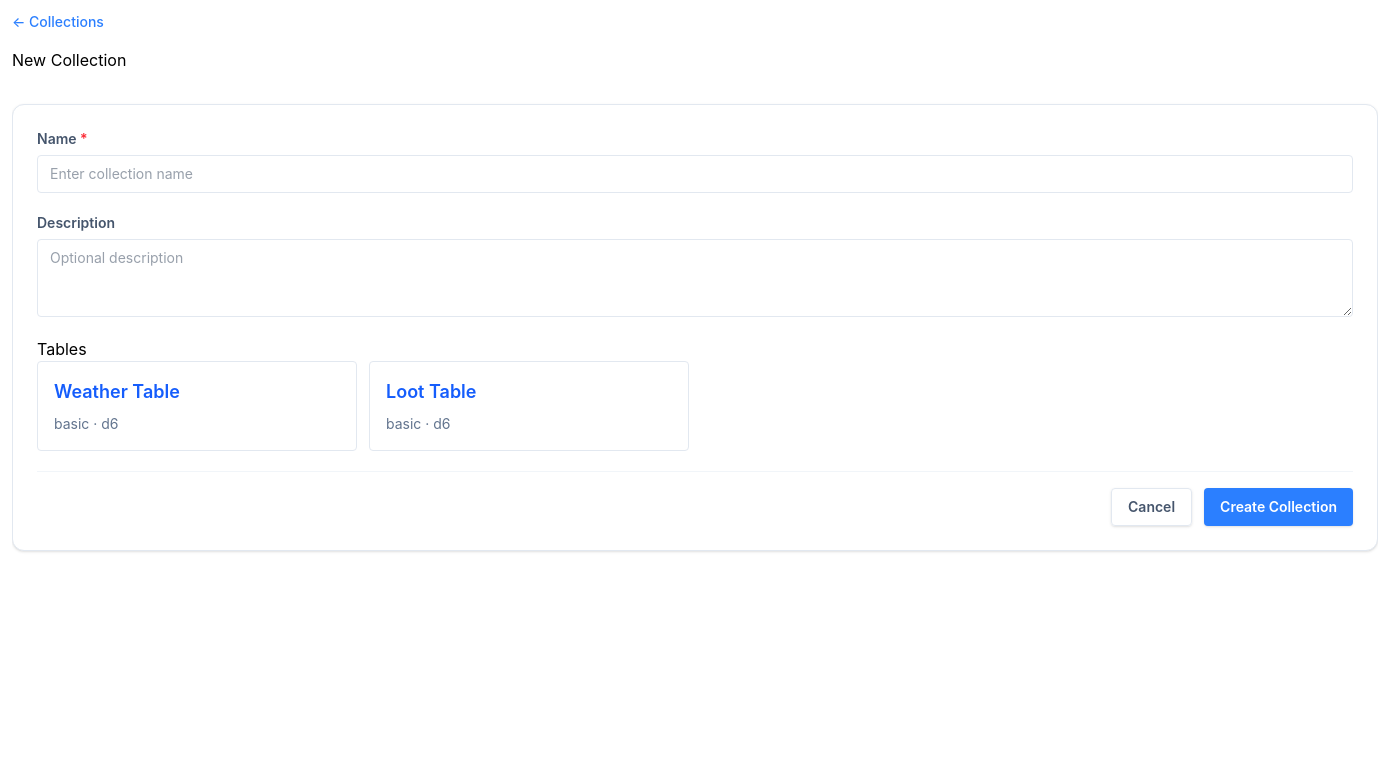
Test: CollectionCreate › shows validation error when name is empty
The width and height of the screenshot is (1378, 780).
Click the button "Create Collection": coordinates (1279, 507) [1204,488,1353,526]
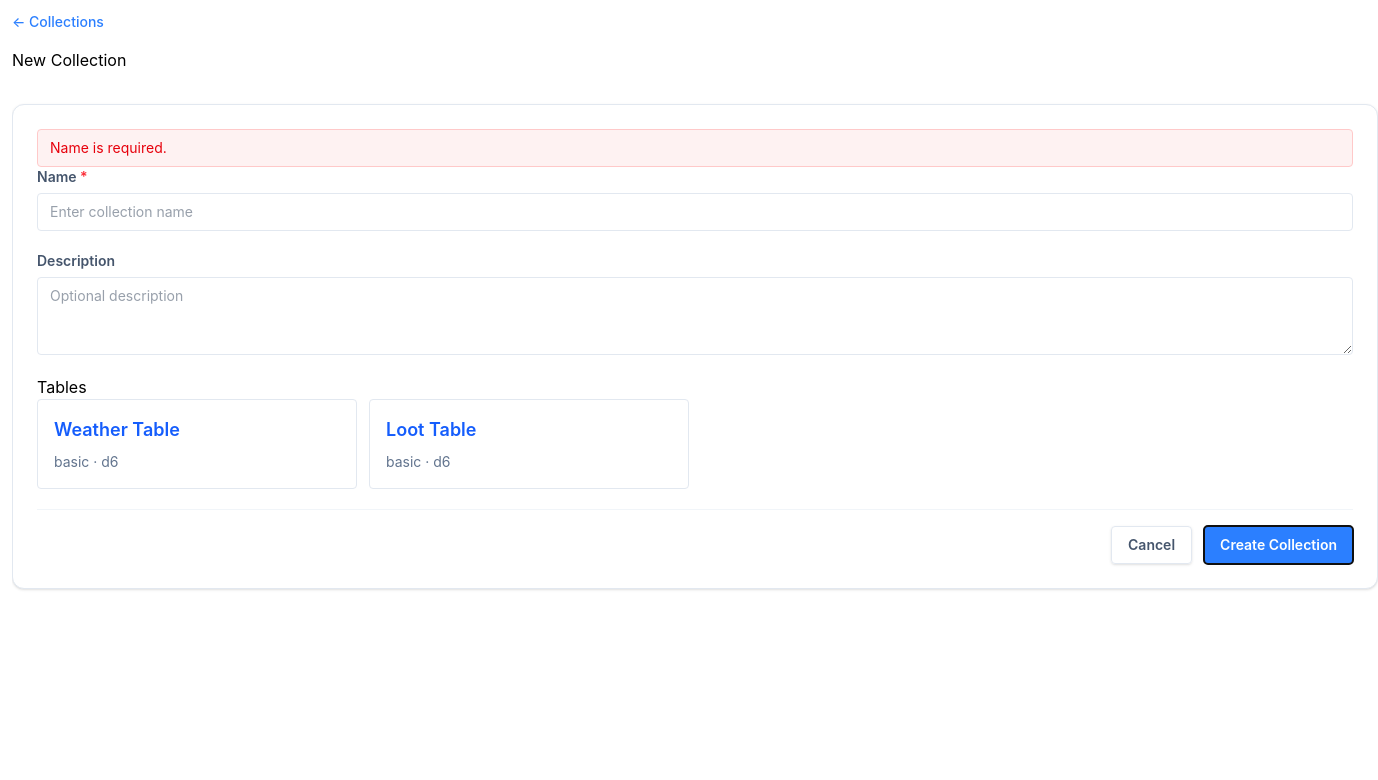
Expected: the text "Name is required." is shown, [37,129,1353,167]
